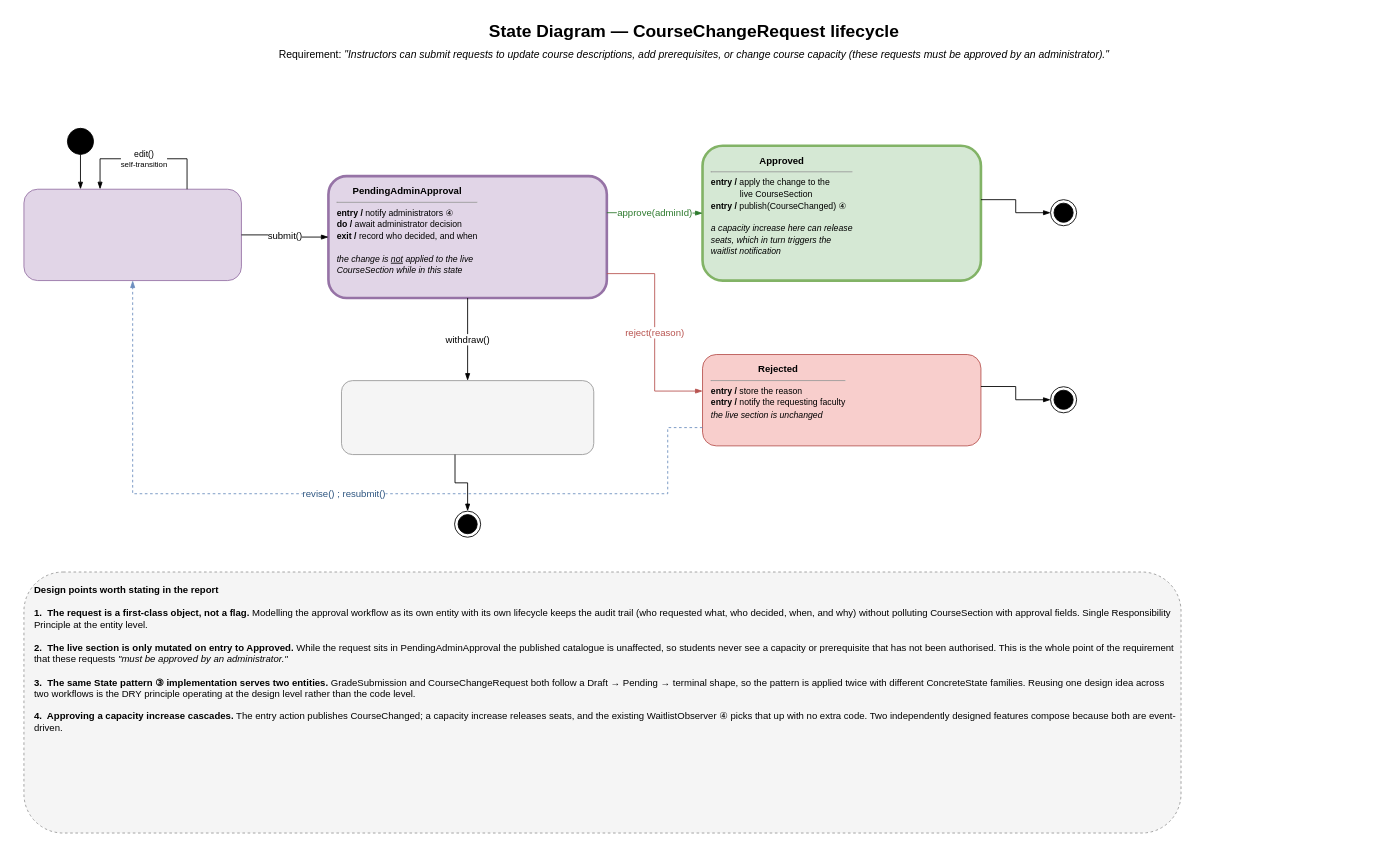
Image size: 1387x848. Some labels were removed from this diagram. The centre of each missing label's shape, as x and y in pixels:
"Draft entry / capture changeType and payload do / faculty edits the request" goes at (x=132, y=234).
"Withdrawn the faculty member withdrew the request before a decision" goes at (x=467, y=417).
